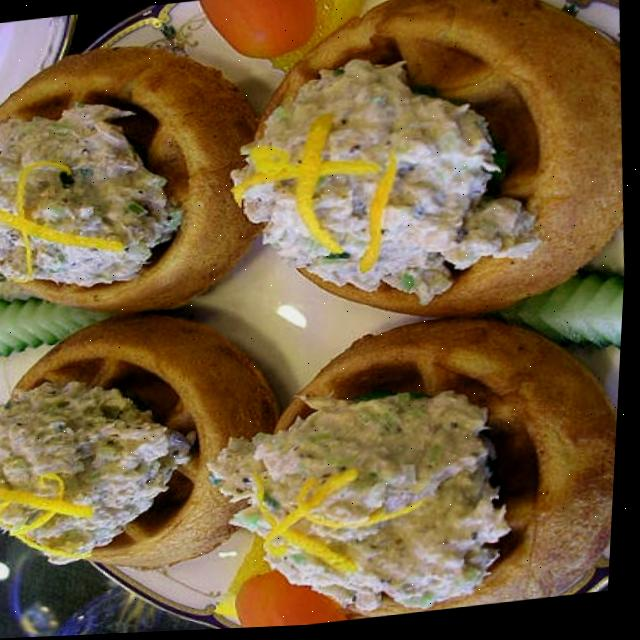炸货点心: (0, 0, 625, 640)
蛋糕甜品: (0, 0, 625, 640)
